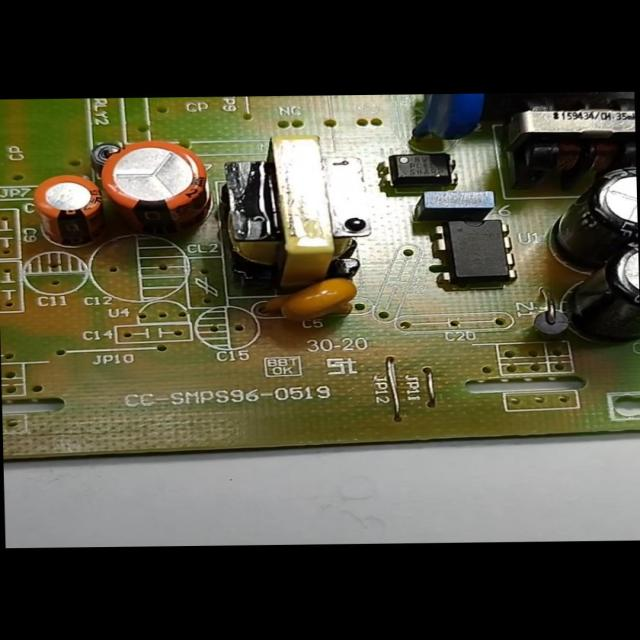Cap1: (101, 139, 208, 233)
Cap2: (36, 173, 101, 244)
Cap3: (539, 168, 638, 252)
Cap4: (561, 240, 640, 341)
MOSFET: (433, 217, 514, 284)
Mov: (407, 94, 489, 146)
Transformer: (216, 130, 370, 286), (506, 94, 636, 166)
